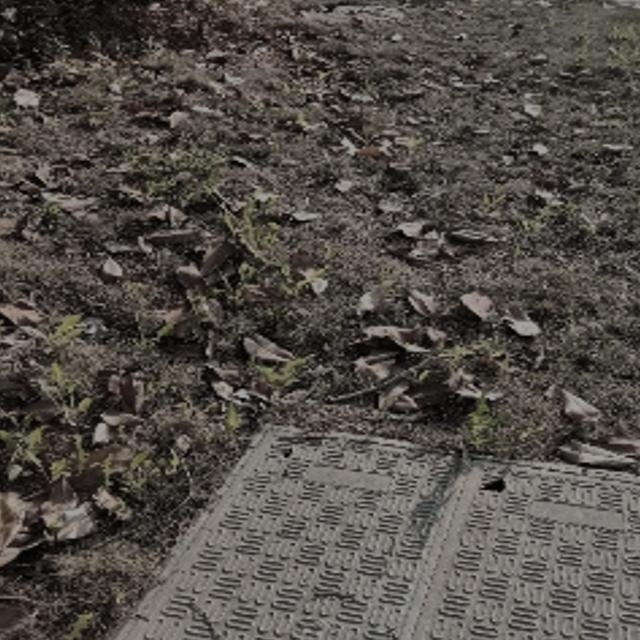good: (36, 418, 640, 640)
